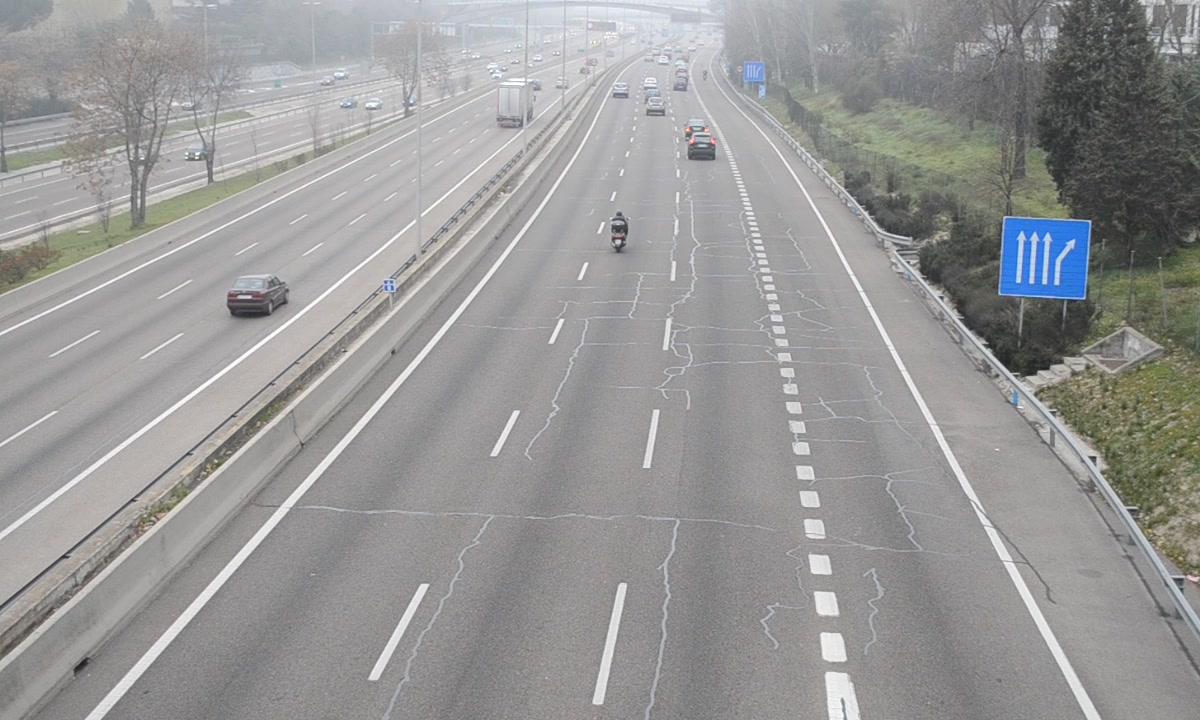car: (687, 132, 717, 163)
motorcycle: (607, 211, 628, 252)
